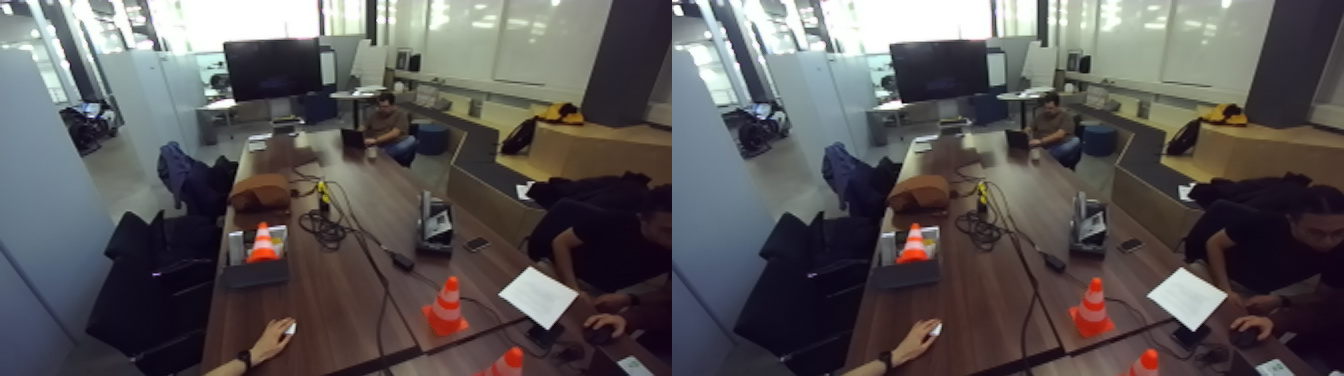cone: (865, 215, 944, 282), (427, 272, 476, 349), (1068, 273, 1119, 345), (249, 218, 294, 280), (500, 349, 536, 376), (1145, 348, 1173, 376)
